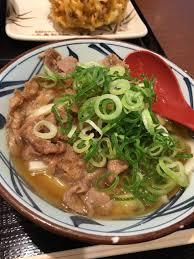niku: (1, 34, 194, 257)
